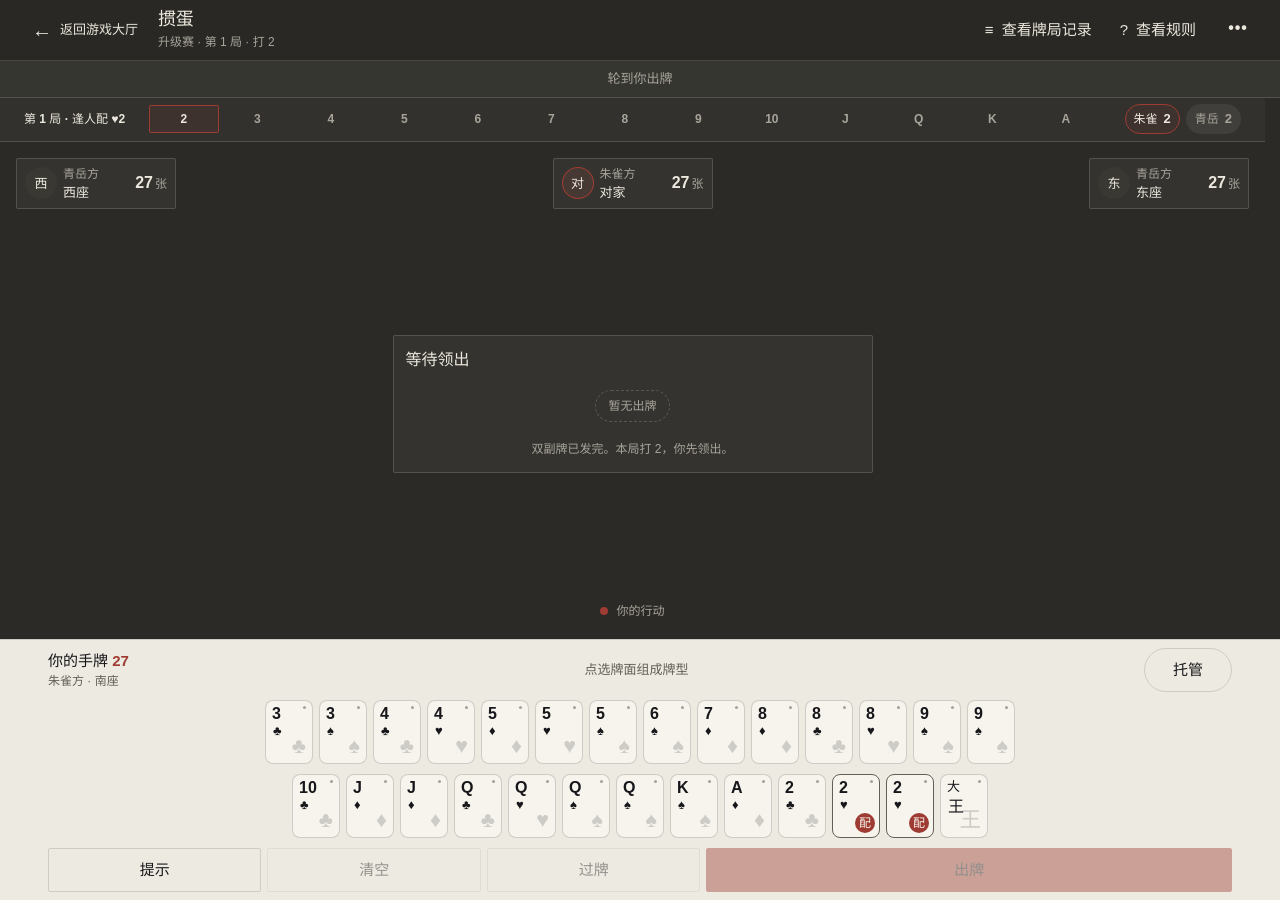
Test: GuandanGame hand interaction › restores focus to the hand after keyboard play and the AI round
The width and height of the screenshot is (1280, 900).
Click the button with class "gd-card" showing "3 ♣ ♣": (289, 732) [265,700,313,764]
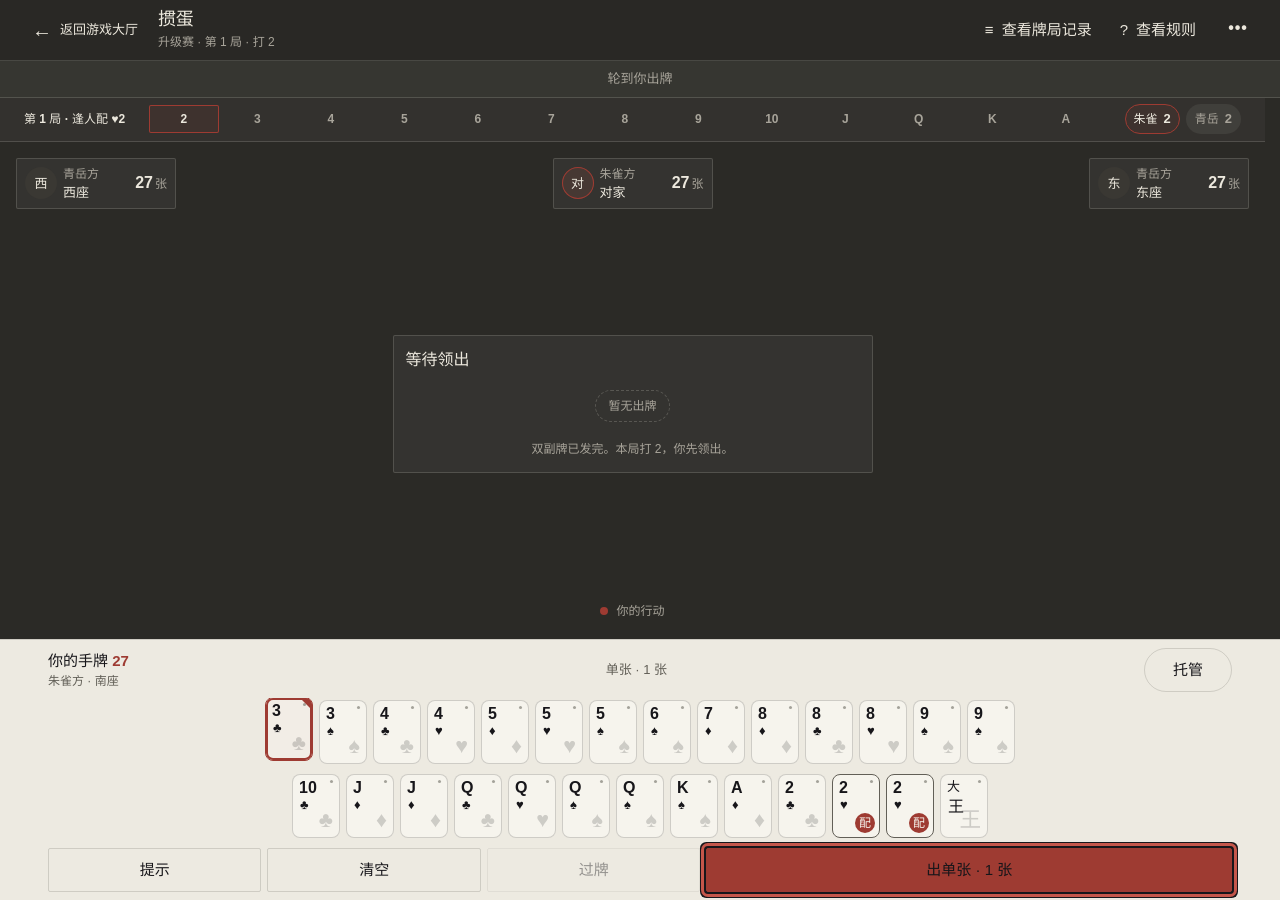
Click the button "出单张 · 1 张": (969, 870) [706,848,1232,892]
Wait 30000 ms
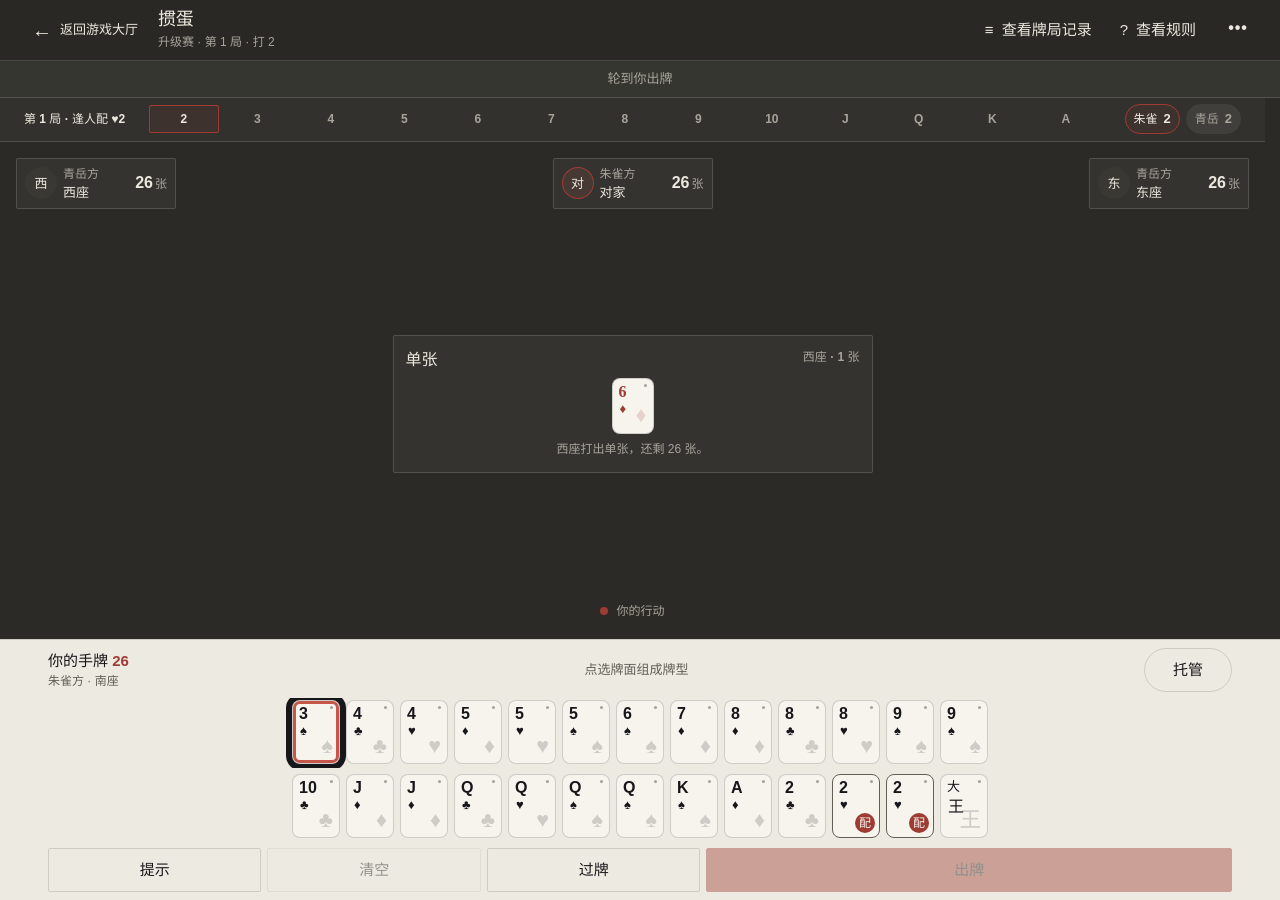
Expected: the button named "出单张" is disabled, [706,848,1232,892]
